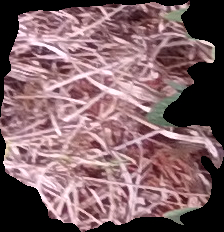soil: (1, 1, 224, 231)
